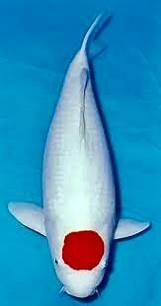sun: (8, 11, 151, 299)
